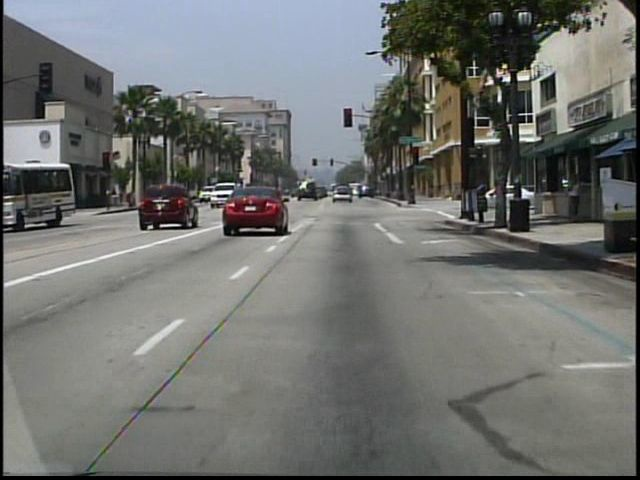person: (564, 169, 585, 224)
